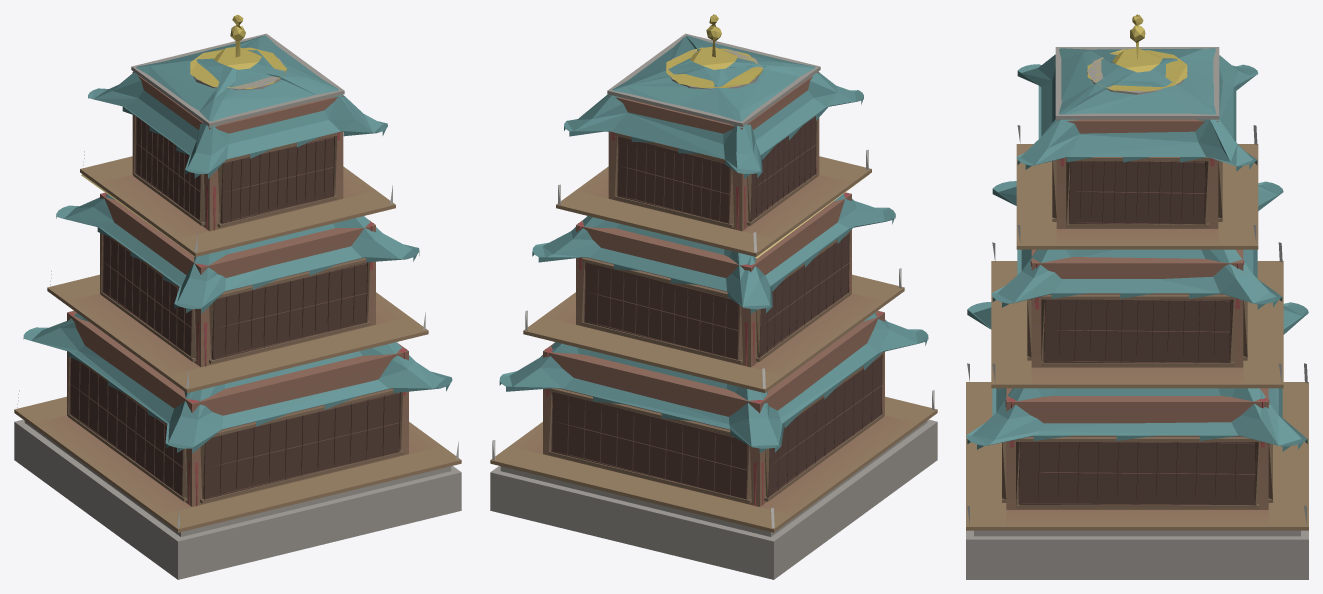
The model's file is lib_lau_cac.vc2.glb.
3 renders of one model, left to right at view 1: azimuth 30°, elevation 25°; view 2: azimuth 150°, elevation 25°; view 3: azimuth 270°, elevation 25°, orthographic. The views are drawn at different scales.
Parts seen in each view (by area): view 1: lib_lau_cac; view 2: lib_lau_cac; view 3: lib_lau_cac.
Part boxes in pixels (<box>): lib_lau_cac: <box>14,14,461,579</box>; lib_lau_cac: <box>490,14,937,579</box>; lib_lau_cac: <box>966,14,1308,579</box>.
Size of the model in its own units: 17 by 27 by 17.
